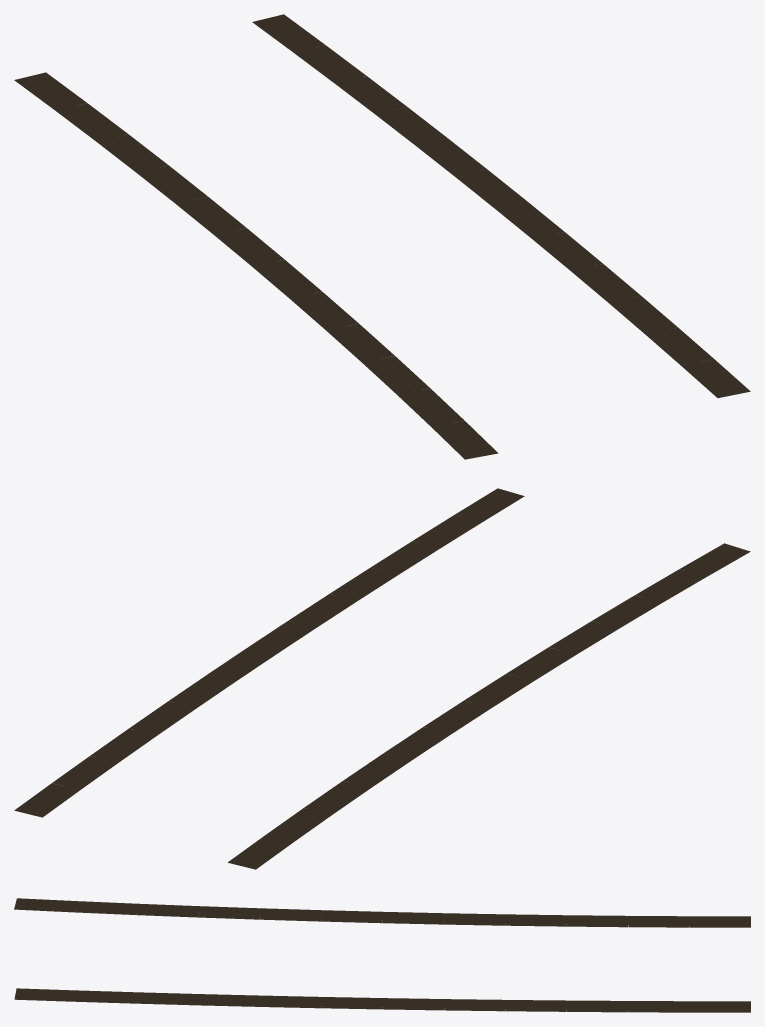
File: pike_tyre_tracks.glb
3 renders of one model, top to bottom at view 1: azimuth 30°, elevation 25°; view 2: azimuth 150°, elevation 25°; view 3: azimuth 270°, elevation 25°, orthographic. The views are drawn at different scales.
Visible parts, largest first — view 1: tyre_tracks_LOD0; view 2: tyre_tracks_LOD0; view 3: tyre_tracks_LOD0.
Boxes of the visible parts, left/top/right/bottom form: tyre_tracks_LOD0: left=14, top=14, right=750, bottom=459; tyre_tracks_LOD0: left=14, top=488, right=750, bottom=869; tyre_tracks_LOD0: left=14, top=898, right=750, bottom=1012.
Size of the model in its own units: 2.21 by 0 by 6.01.
